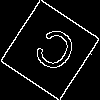C: (25, 24, 81, 83)
